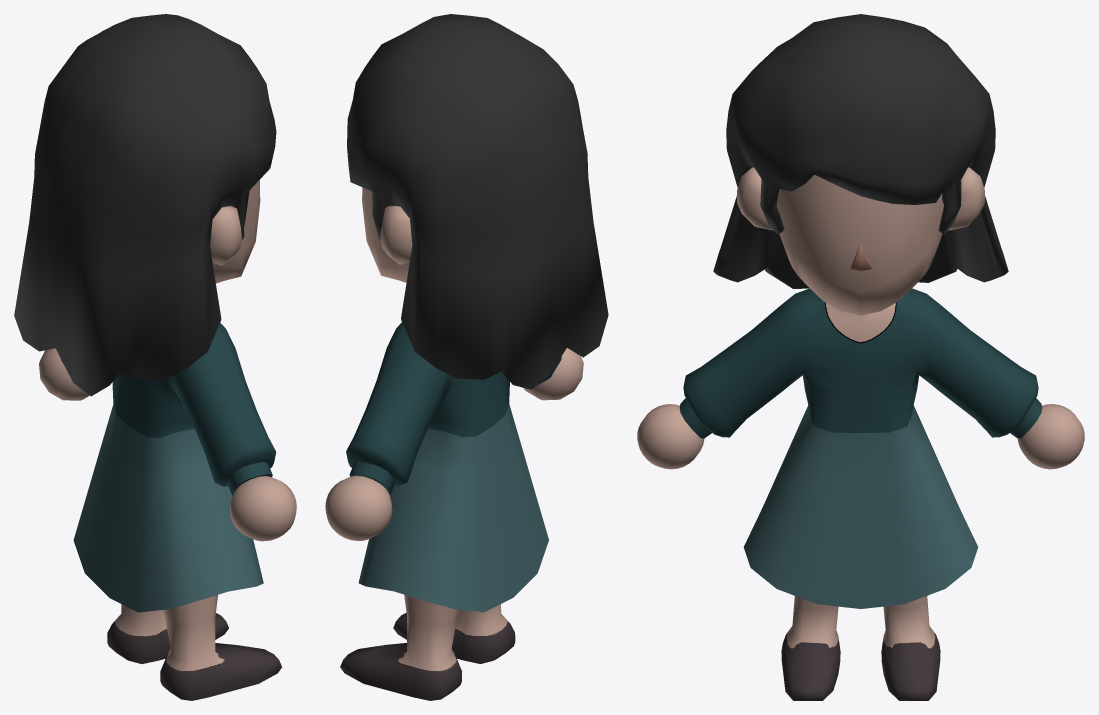
Rendered from Chime_Human.fbx.
The picture shows the model from 3 angles, left to right: view 1: azimuth 30°, elevation 25°; view 2: azimuth 150°, elevation 25°; view 3: azimuth 270°, elevation 25°; orthographic projection.
Parts seen in each view (by area): view 1: Chime Human; view 2: Chime Human; view 3: Chime Human.
Part boxes in pixels (left/top/right/bottom): Chime Human: left=14, top=14, right=296, bottom=700; Chime Human: left=325, top=14, right=608, bottom=700; Chime Human: left=637, top=14, right=1084, bottom=700.
Size of the model in its own units: 97.69 by 296 by 188.
1 material, 1 textured.
